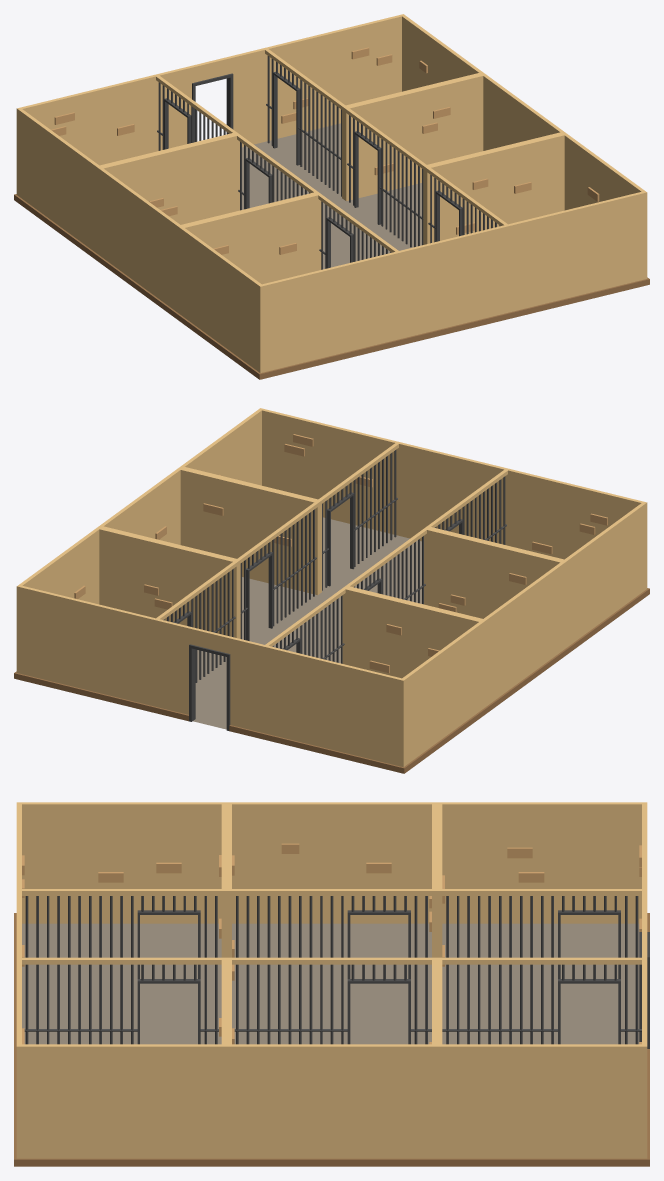
Rendered from Cage.fbx.
The picture shows the model from 3 angles, top to bottom: view 1: azimuth 30°, elevation 25°; view 2: azimuth 150°, elevation 25°; view 3: azimuth 270°, elevation 25°; orthographic projection. The views are drawn at different scales.
Parts seen in each view (by area): view 1: Wall_11, Wall_21, Wall_5, Wall_3, Wall_8, Wall_2, Floor, Wall_18, Wall_15, Wall_20, Wall_14, Wall_17 (+22 smaller); view 2: Wall_3, Wall_13, Floor, Wall_8, Wall_5, Wall_11, Wall_15, Wall_18, Wall_14, Wall_20, Wall_17, Wall_21 (+21 smaller); view 3: Floor, Wall_4, Wall_10, Wall_7, Wall_17, Wall_20, Wall_14, Cage_Component, Cage_3, Cage_1, Cage_5, Cage_4 (+25 smaller).
Boxes of the visible parts, left/top/right/bottom form: Wall_11: left=505, top=191, right=647, bottom=312; Wall_21: left=260, top=251, right=400, bottom=372; Wall_5: left=342, top=73, right=484, bottom=201; Wall_3: left=263, top=14, right=403, bottom=141; Wall_8: left=423, top=132, right=565, bottom=244; Wall_2: left=399, top=225, right=506, bottom=338; Floor: left=242, top=123, right=421, bottom=269; Wall_18: left=179, top=191, right=321, bottom=284; Wall_15: left=98, top=132, right=239, bottom=224; Wall_20: left=179, top=227, right=261, bottom=372; Wall_14: left=16, top=108, right=99, bottom=253; Wall_17: left=98, top=168, right=180, bottom=313; Wall_3: left=16, top=585, right=158, bottom=706; Wall_13: left=263, top=645, right=403, bottom=766; Floor: left=193, top=517, right=421, bottom=729; Wall_8: left=179, top=467, right=321, bottom=595; Wall_5: left=98, top=526, right=240, bottom=638; Wall_11: left=260, top=408, right=400, bottom=535; Wall_15: left=342, top=585, right=484, bottom=678; Wall_18: left=424, top=526, right=565, bottom=618; Wall_14: left=402, top=621, right=484, bottom=766; Wall_20: left=564, top=502, right=647, bottom=647; Wall_17: left=483, top=562, right=565, bottom=707; Wall_21: left=505, top=468, right=646, bottom=559; Floor: left=22, top=923, right=639, bottom=1044; Wall_4: left=437, top=1044, right=647, bottom=1158; Wall_10: left=16, top=1044, right=226, bottom=1158; Wall_7: left=227, top=1044, right=436, bottom=1158; Wall_17: left=228, top=802, right=435, bottom=923; Wall_20: left=17, top=802, right=225, bottom=923; Wall_14: left=438, top=802, right=646, bottom=923; Cage_Component: left=14, top=913, right=649, bottom=1166; Cage_3: left=234, top=964, right=431, bottom=1044; Cage_1: left=442, top=964, right=641, bottom=1044; Cage_5: left=24, top=964, right=218, bottom=1044; Cage_4: left=236, top=896, right=427, bottom=957.
Bounding box in the file's own units: 2220 × 500 × 2420.
